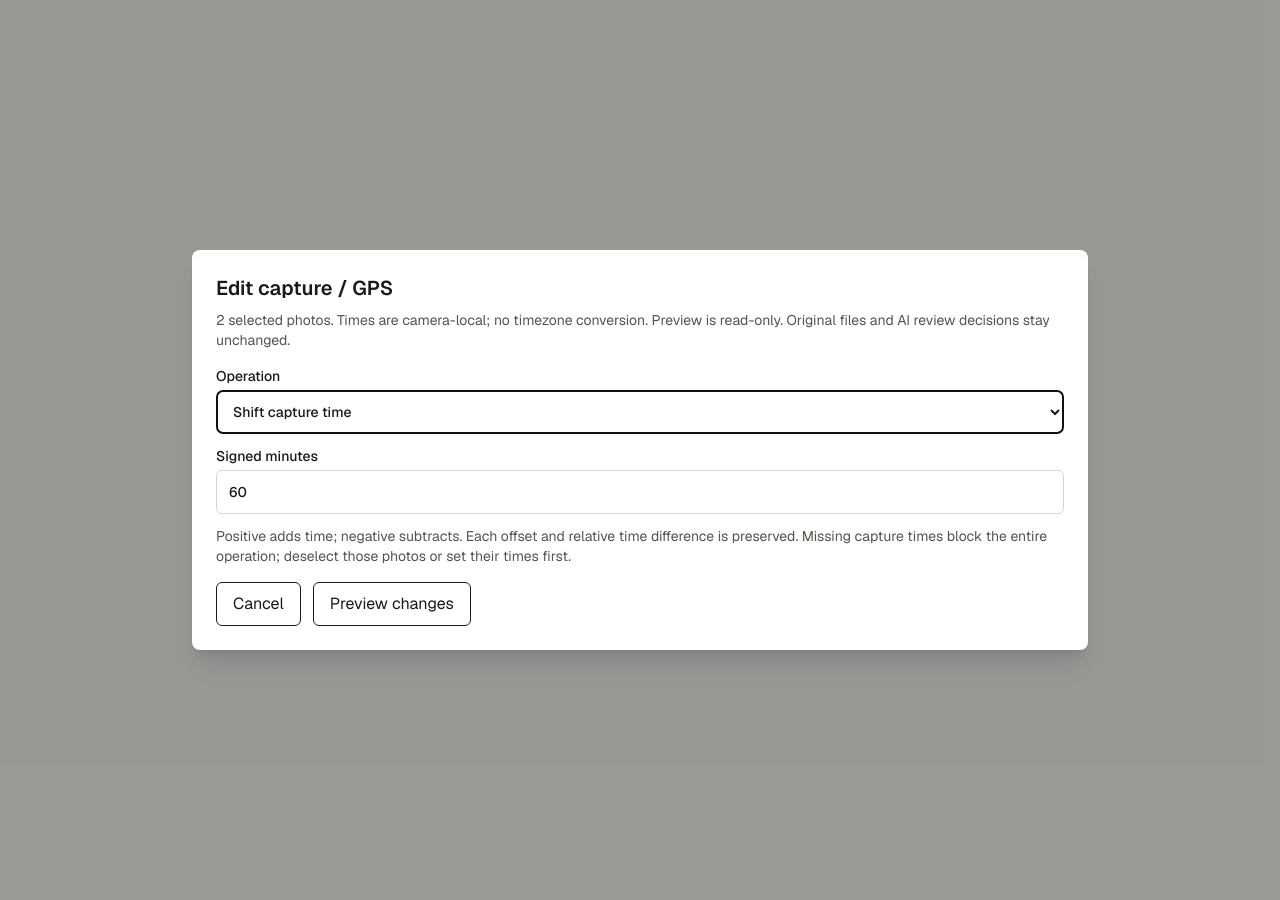
operation set_capture sends typed values
Select "Set capture date and time" in the dropdown labelled "Operation" at (640, 412), box [216,390,1064,434]
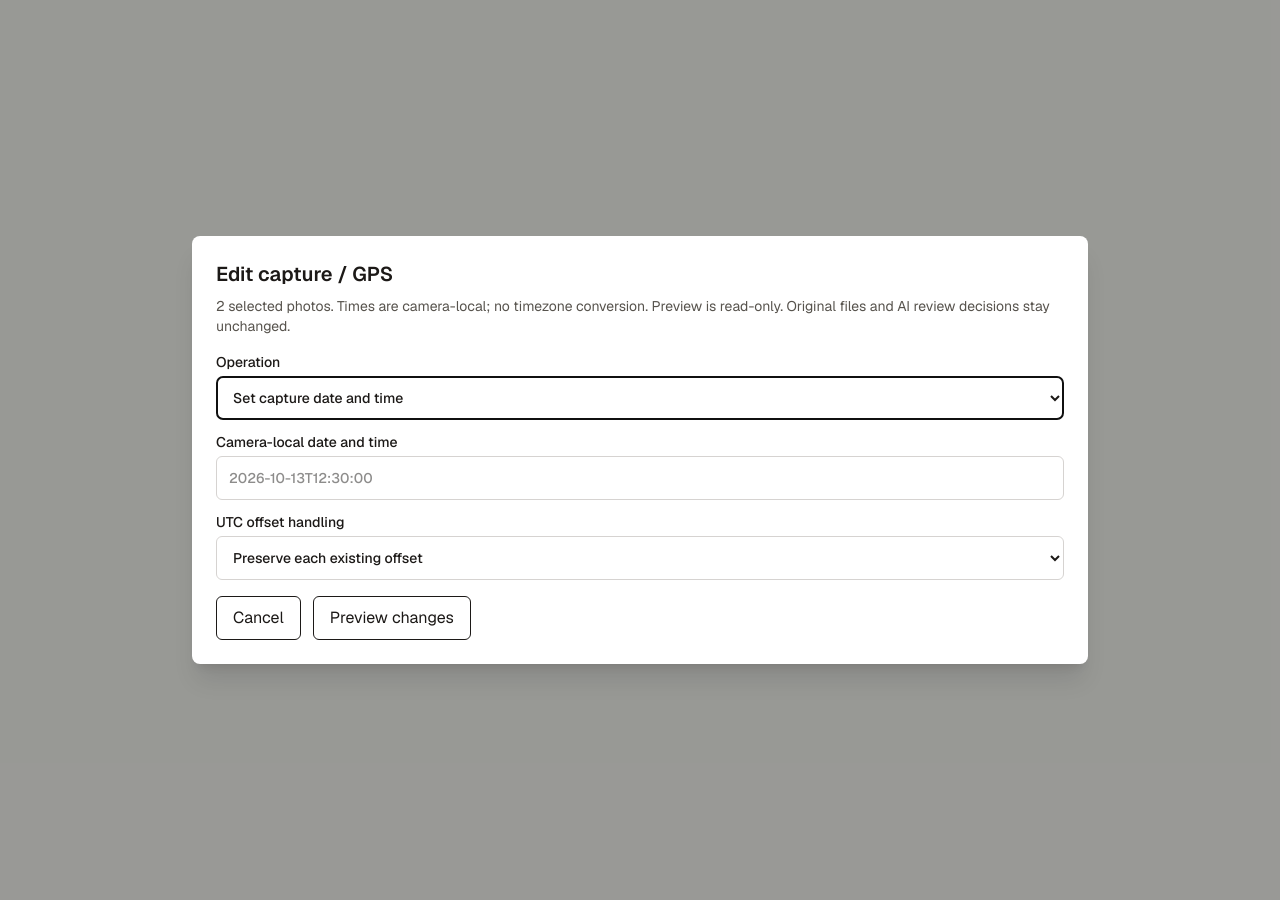
Type "2024-02-29T12:30" into the field labelled "Camera-local date and time" at (640, 478), box [216,456,1064,500]
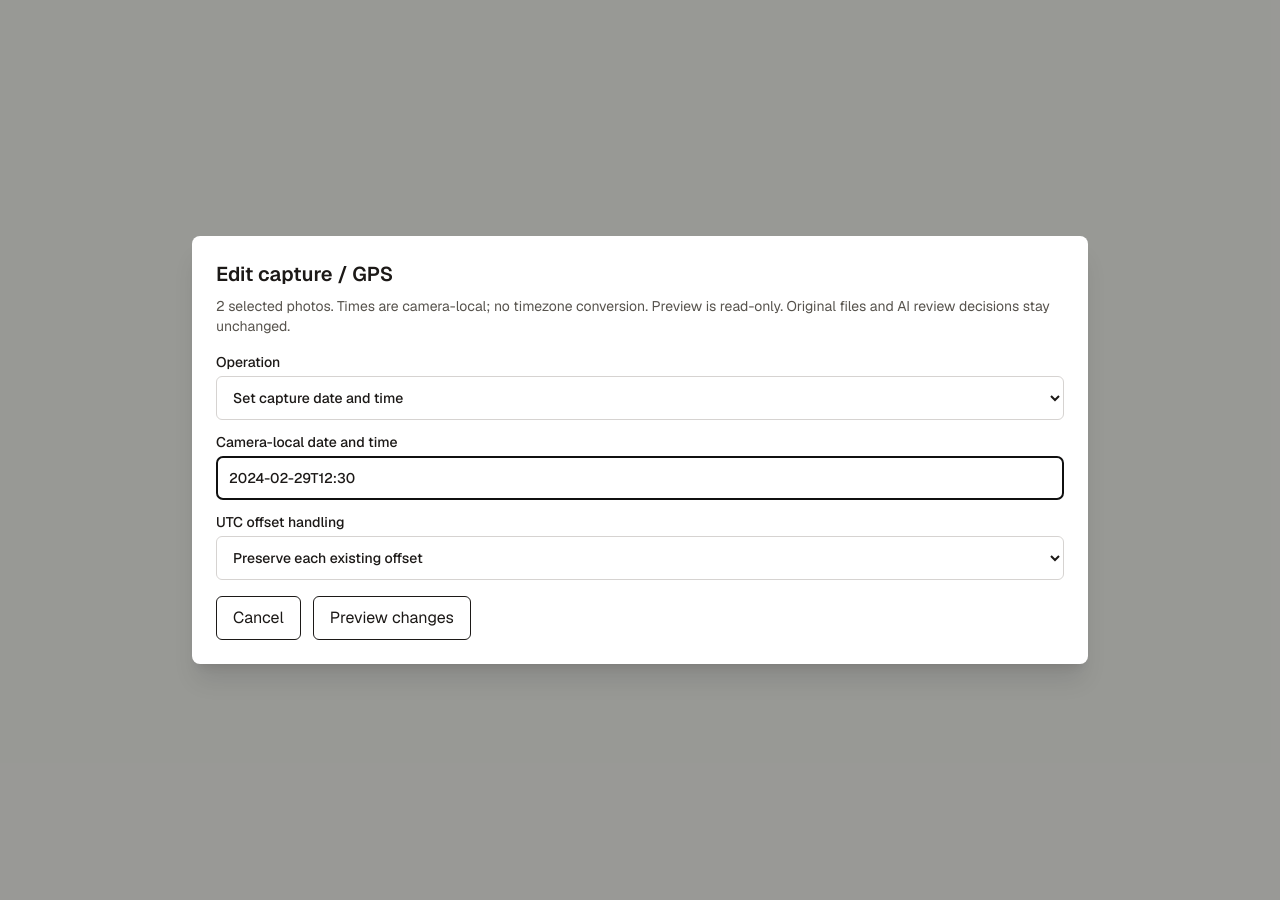
Click the button "Preview changes" at (392, 618), box [313,596,471,640]
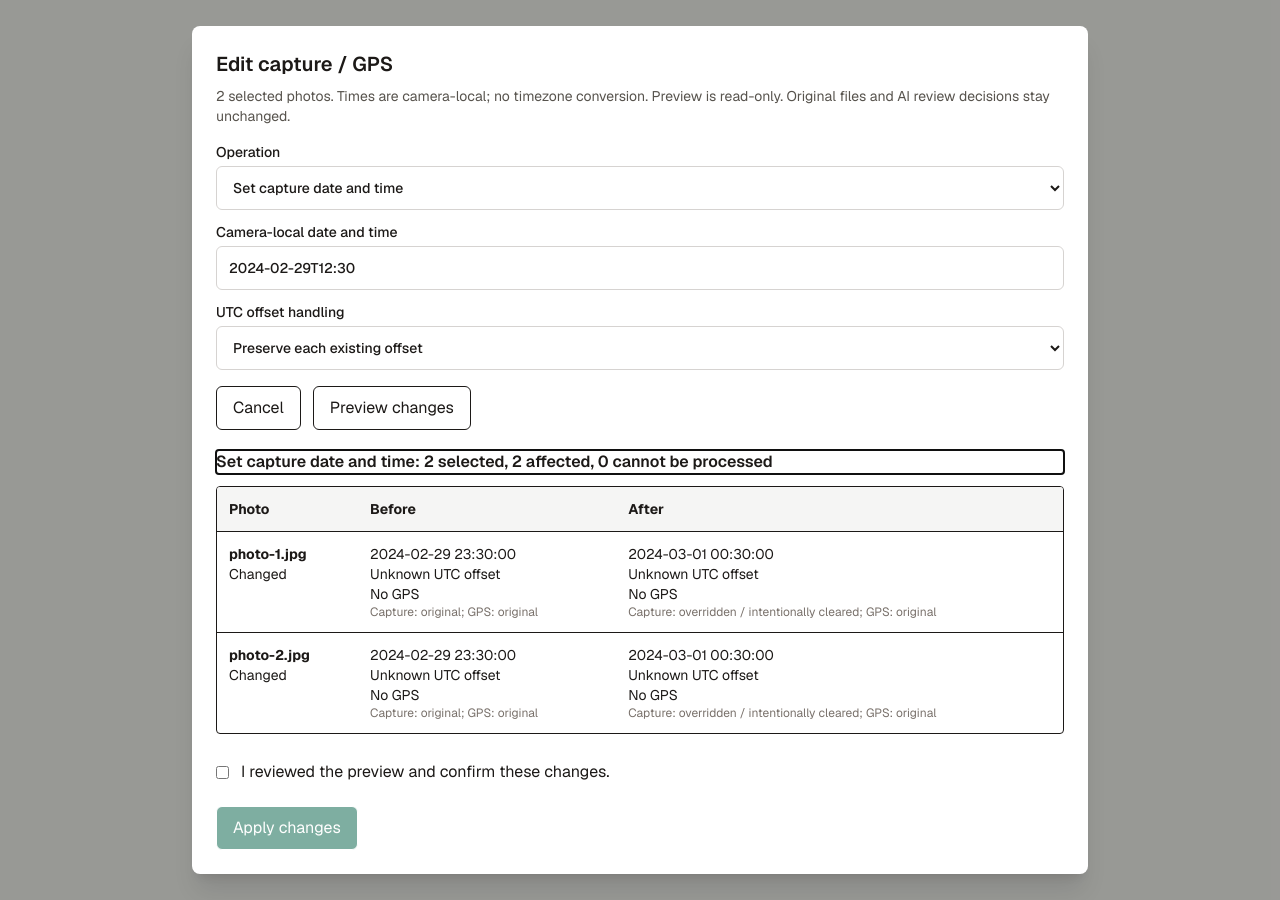
Now the table is shown, box [217,487,1063,733]
